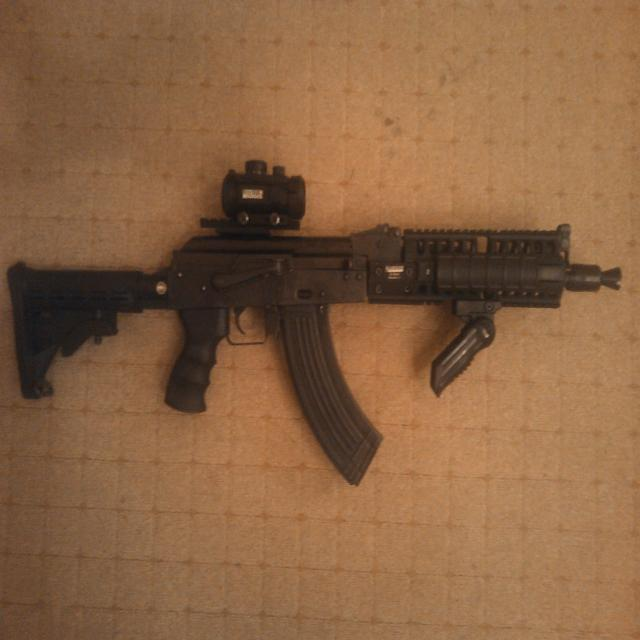firearm: (6, 156, 622, 489)
